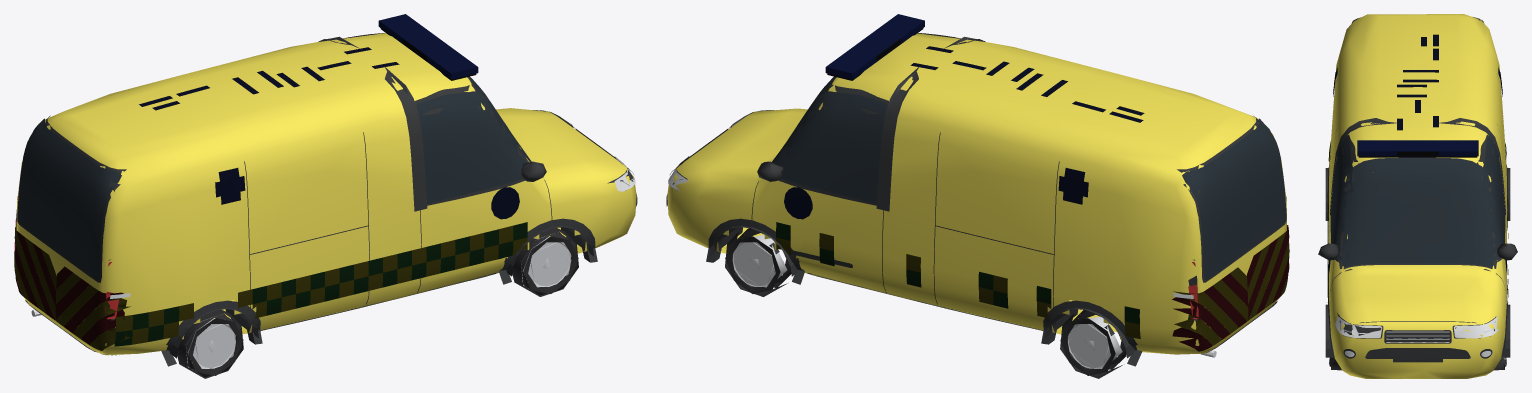
Rendered from samu_umh_far.glb.
3 renders of one model, left to right at view 1: azimuth 30°, elevation 25°; view 2: azimuth 150°, elevation 25°; view 3: azimuth 270°, elevation 25°, orthographic. The views are drawn at different scales.
Visible parts, largest first — view 1: Body, RearGlass, Glass-1, WheelRR, WheelFR, LightBar, Bpillar-1, ArchTrim-1.001, ArchTrim-1, RgFrame, WinFrame-1, Samu15D-1 (+6 smaller); view 2: Body, RearGlass, Glass1, WheelRL, WheelFL, LightBar, Bpillar1, ArchTrim1.001, ArchTrim1, RgFrame, WinFrame1, Samu15D1 (+8 smaller); view 3: Body, Windshield, LightBar, Glass1, Glass-1, Intake, HeadReflector, Grille, WsFrame, Bpillar-1, HeadBezel, Bpillar1 (+10 smaller).
Boxes of the visible parts, x1,y1,x2,y2 form: Body: [16, 33, 636, 355]; RearGlass: [17, 118, 121, 280]; Glass-1: [416, 91, 531, 203]; WheelRR: [177, 309, 243, 378]; WheelFR: [512, 228, 578, 296]; LightBar: [378, 14, 478, 79]; Bpillar-1: [384, 66, 427, 211]; ArchTrim-1.001: [161, 300, 262, 366]; ArchTrim-1: [498, 218, 597, 284]; RgFrame: [17, 115, 126, 282]; WinFrame-1: [414, 84, 527, 205]; Samu15D-1: [491, 187, 519, 219]; Body: [667, 33, 1286, 354]; RearGlass: [1182, 118, 1286, 280]; Glass1: [772, 91, 887, 203]; WheelRL: [1060, 310, 1126, 378]; WheelFL: [725, 228, 791, 296]; LightBar: [825, 14, 924, 79]; Bpillar1: [876, 66, 919, 211]; ArchTrim1.001: [1041, 300, 1142, 366]; ArchTrim1: [706, 218, 804, 284]; RgFrame: [1177, 116, 1286, 282]; WinFrame1: [775, 84, 888, 205]; Samu15D1: [784, 187, 812, 219]; Body: [1329, 14, 1506, 378]; Windshield: [1342, 158, 1493, 266]; LightBar: [1357, 140, 1478, 156]; Glass1: [1472, 137, 1505, 260]; Glass-1: [1330, 137, 1354, 260]; Intake: [1365, 348, 1470, 358]; HeadReflector: [1335, 316, 1498, 338]; Grille: [1384, 330, 1451, 343]; WsFrame: [1339, 157, 1496, 268]; Bpillar-1: [1330, 118, 1397, 214]; HeadBezel: [1337, 313, 1496, 338]; Bpillar1: [1438, 118, 1505, 214].
Bounding box in the file's own units: 5.62 × 2.31 × 2.15.
